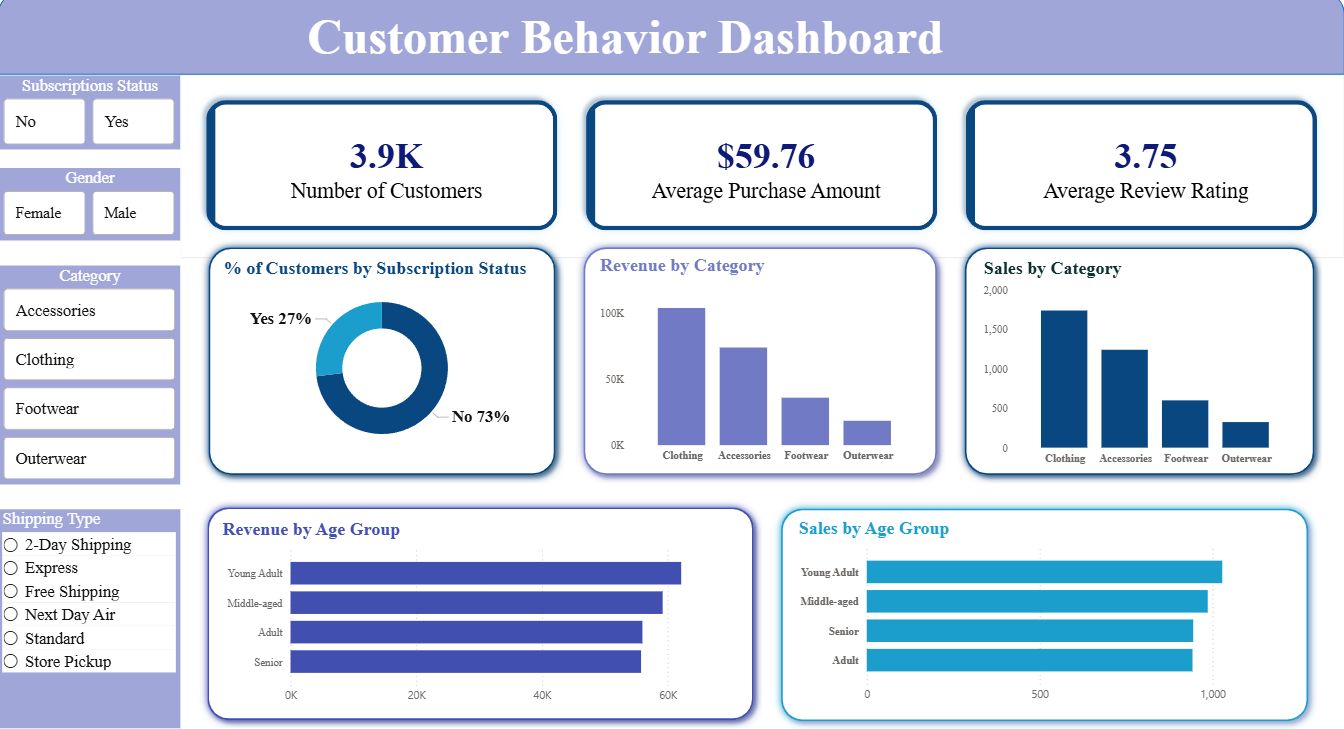

The page's visual inventory and layout, read from the dashboard file:
{"tool":"powerbi","page":{"name":"Page 1","canvas":[1500,820],"ordinal":0},"visuals":[{"type":"cardVisual","fields":{"Data":["customer.Number of Customers","customer.Average Purchase Amount","customer.Average Review Rating"]},"box":[203.8,91.1,1296.5,203.8],"z":0},{"type":"shape","box":[0,0,1500.3,91.1],"z":1000},{"type":"textbox","box":[260.2,14.5,877.3,96.8],"z":2000},{"type":"shape","box":[225.5,274.6,404.7,271.7],"z":3000},{"type":"shape","box":[1068.1,274.6,407.6,271.7],"z":4000},{"type":"shape","box":[643.2,274.6,411.9,271.7],"z":5000},{"type":"clusteredColumnChart","title":"Revenue by Category","fields":{"Category":["customer.category"],"Y":["Sum(customer.purchase_amount)"]},"box":[666.3,292,364.2,238.5],"z":6000},{"type":"clusteredColumnChart","title":"Sales by Category","fields":{"Category":["customer.category"],"Y":["CountNonNull(customer.customer_id)"]},"box":[1092.7,294.9,357,238.5],"z":7000},{"type":"shape","box":[1.4,91.2,203.5,728.5],"z":8000},{"type":"advancedSlicerVisual","fields":{"Values":["customer.subscription_status"]},"box":[1.4,91.9,201.9,82.2],"z":9000},{"type":"advancedSlicerVisual","title":"Gender","fields":{"Values":["customer.gender"]},"box":[1.4,195,201.9,80.8],"z":10000},{"type":"advancedSlicerVisual","fields":{"Values":["customer.category"]},"box":[1.4,303.6,201.9,243.7],"z":11000},{"type":"shape","box":[224.7,564.3,626.8,255.1],"z":11500},{"type":"listSlicer","fields":{"Values":["customer.shipping_type"]},"box":[0,575.5,203.5,244.2],"z":12000},{"type":"clusteredBarChart","title":"Revenue by Age Group","fields":{"Y":["Sum(customer.purchase_amount)"],"Category":["customer.age_group"]},"box":[245,586.3,586.3,214.6],"z":13000},{"type":"shape","box":[863.1,564.8,605.3,254.9],"z":15000},{"type":"clusteredBarChart","title":"Sales by Age Group","fields":{"Y":["CountNonNull(customer.customer_id)"],"Category":["customer.age_group"]},"box":[887.7,585.1,563.3,214.3],"z":16000},{"type":"donutChart","title":"% of Customers by Subscription Status","fields":{"Category":["customer.subscription_status"],"Y":["CountNonNull(customer.customer_id)"]},"box":[247.2,294.9,362.8,224],"z":17000}]}

Visuals, with their boxes in screenshot pixels (x1, y1, x2, y2), scaled from the page's 1500x820 canvas onto the 1344x729 screenshot:
cardVisual - customer.Number of Customers x customer.Average Purchase Amount: [183, 81, 1343, 262]
shape: [0, 0, 1343, 81]
textbox: [233, 13, 1019, 99]
shape: [202, 244, 565, 486]
shape: [957, 244, 1322, 486]
shape: [576, 244, 945, 486]
"Revenue by Category" clusteredColumnChart: [597, 260, 923, 472]
"Sales by Category" clusteredColumnChart: [979, 262, 1299, 474]
shape: [1, 81, 184, 728]
advancedSlicerVisual - customer.subscription_status: [1, 82, 182, 155]
"Gender" advancedSlicerVisual: [1, 173, 182, 245]
advancedSlicerVisual - customer.category: [1, 270, 182, 487]
shape: [201, 502, 763, 728]
listSlicer - customer.shipping_type: [0, 512, 182, 728]
"Revenue by Age Group" clusteredBarChart: [220, 521, 745, 712]
shape: [773, 502, 1316, 728]
"Sales by Age Group" clusteredBarChart: [795, 520, 1300, 711]
"% of Customers by Subscription Status" donutChart: [221, 262, 547, 461]
